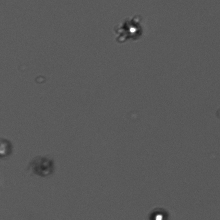Dead Cell: (29, 154, 58, 179), (1, 134, 12, 159)
Living Cell: (112, 13, 149, 46), (147, 207, 169, 220)
